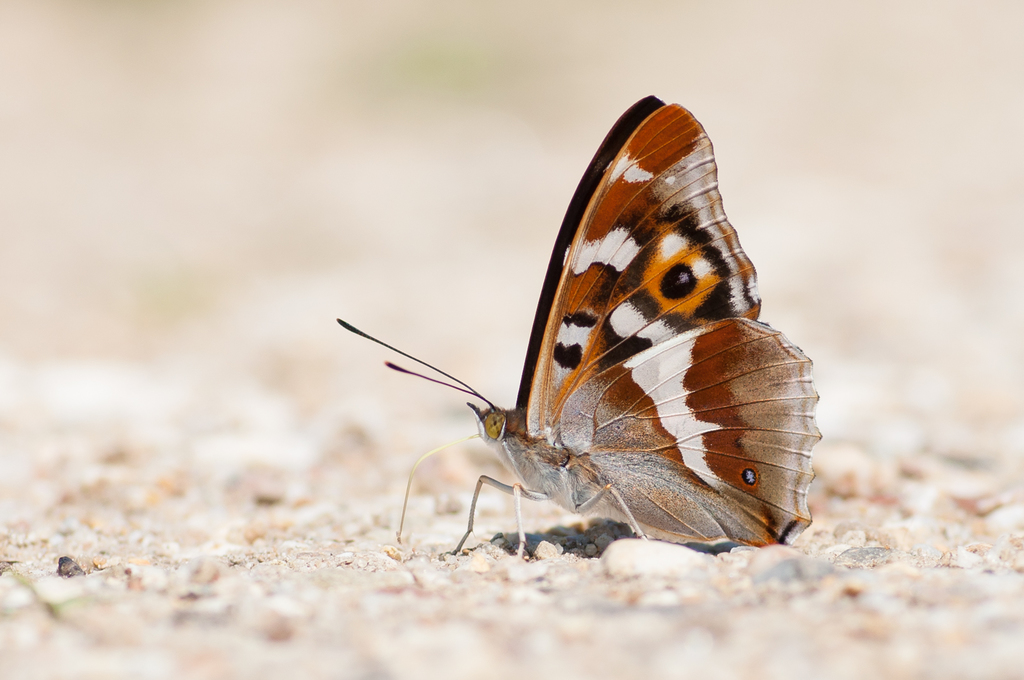Butterfly: (318, 40, 862, 626)
